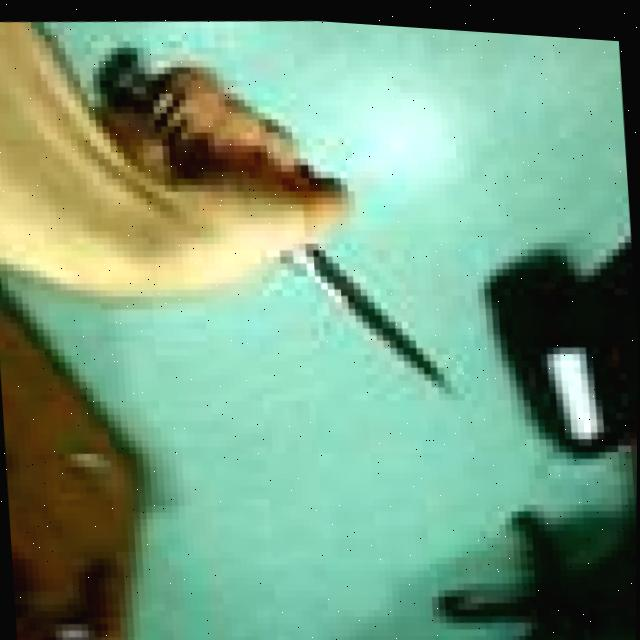knife: (295, 234, 462, 400)
